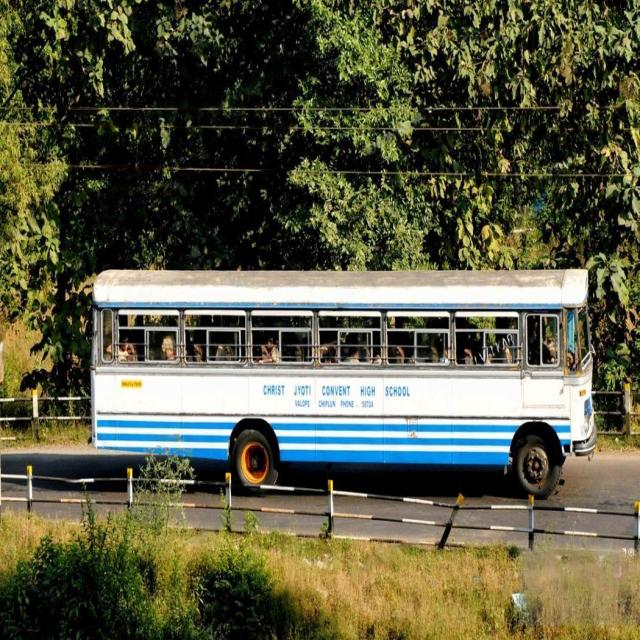bus: (91, 270, 595, 498)
